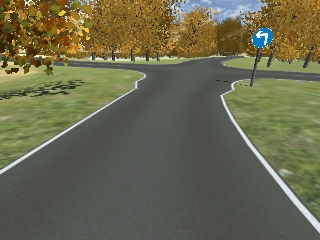left: (252, 28, 274, 47)
